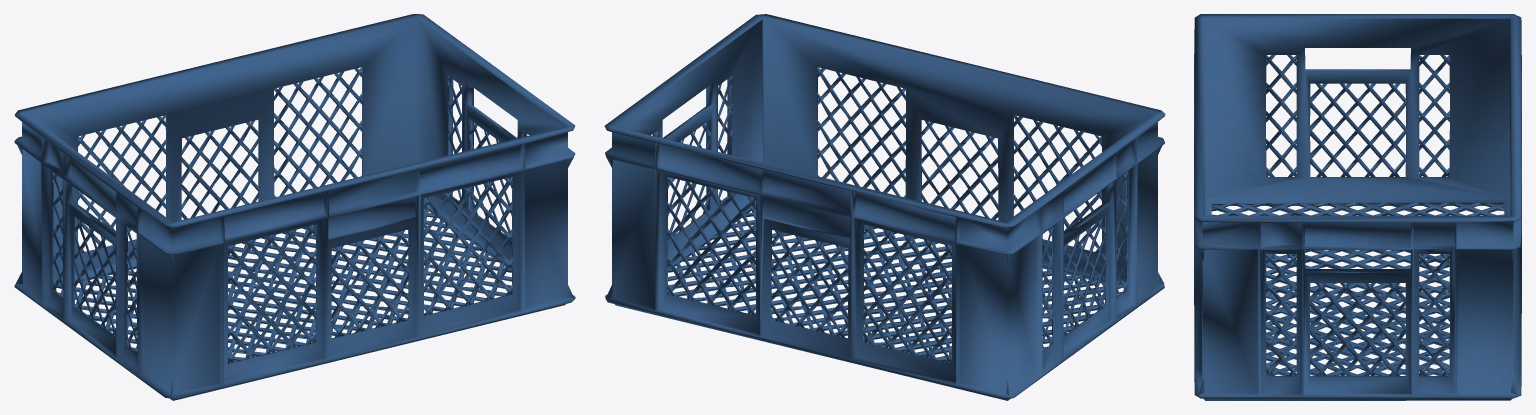
File: SimReadyCrateNear.glb
3 views of the same model, side by side, from view 1: azimuth 30°, elevation 25°; view 2: azimuth 150°, elevation 25°; view 3: azimuth 270°, elevation 25° (orthographic). The views are drawn at different scales.
Visible parts, largest first — view 1: sm_crate_a01_mesh_00; view 2: sm_crate_a01_mesh_00; view 3: sm_crate_a01_mesh_00.
Boxes of the visible parts, box(x1,y1,x2,y2) form: sm_crate_a01_mesh_00: box(14, 14, 575, 400); sm_crate_a01_mesh_00: box(604, 14, 1165, 400); sm_crate_a01_mesh_00: box(1194, 14, 1521, 400).
Size of the model in its own units: 0.6056 by 0.2528 by 0.4056.
Materials: 1 (1 with a texture image).
